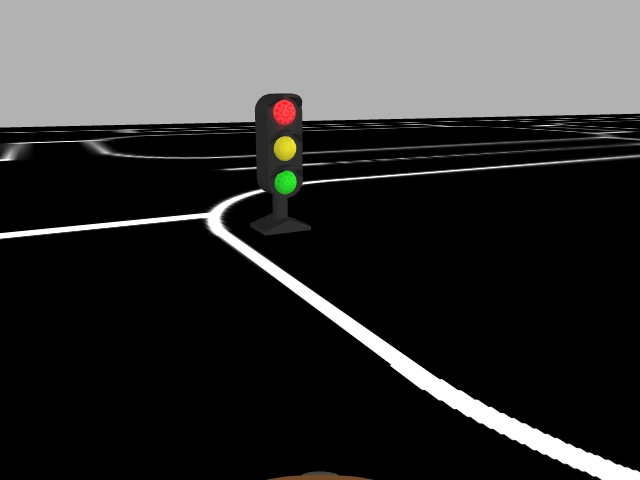red_light: (252, 92, 306, 199)
